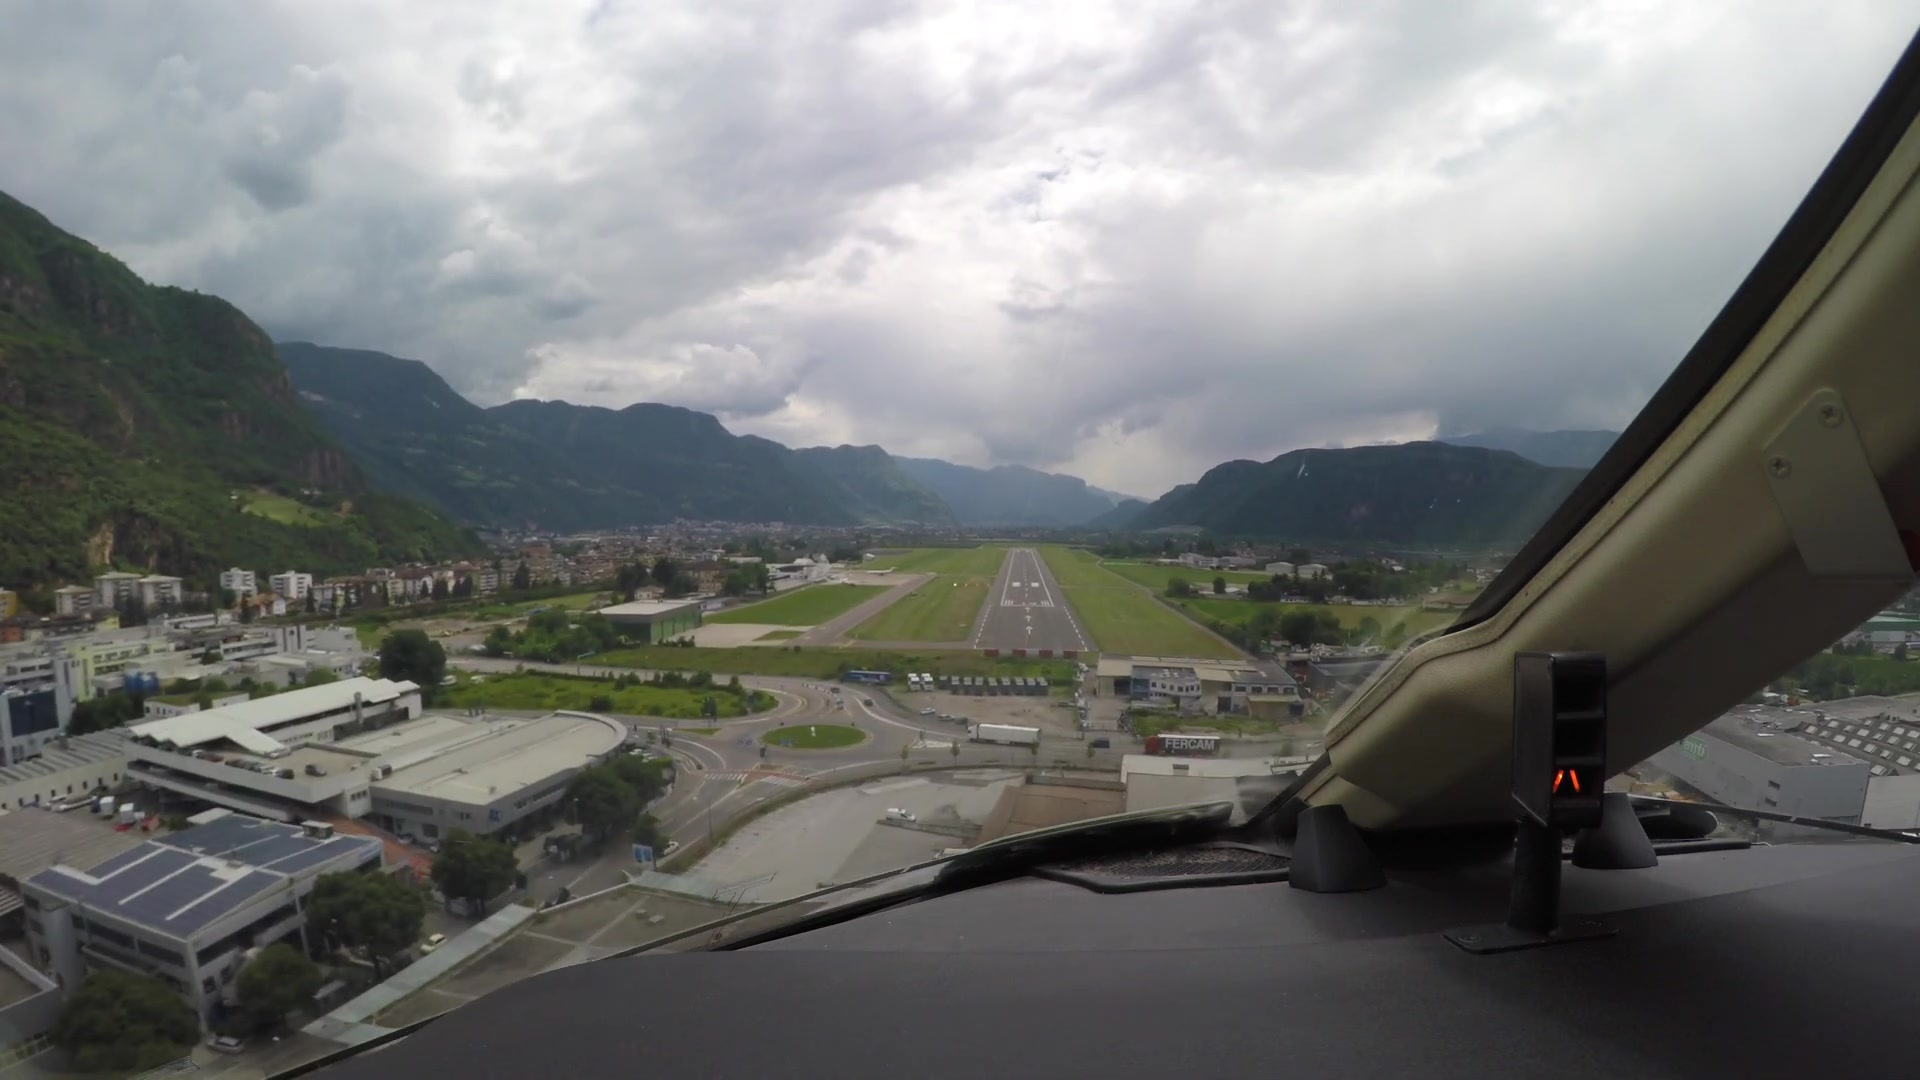entrance: (1004, 599, 1051, 607)
runway: (965, 549, 1091, 654)
